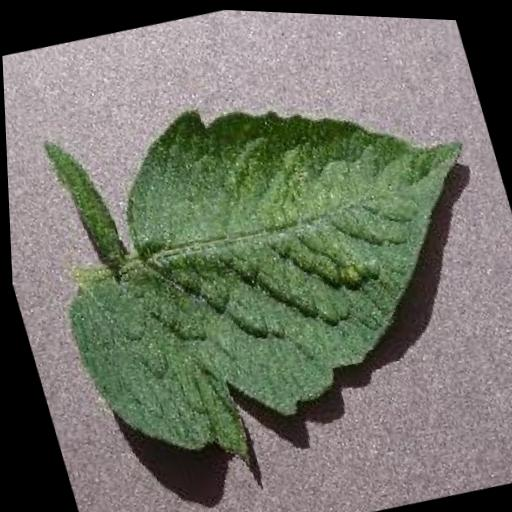Spider Mites: (8, 37, 512, 497)
